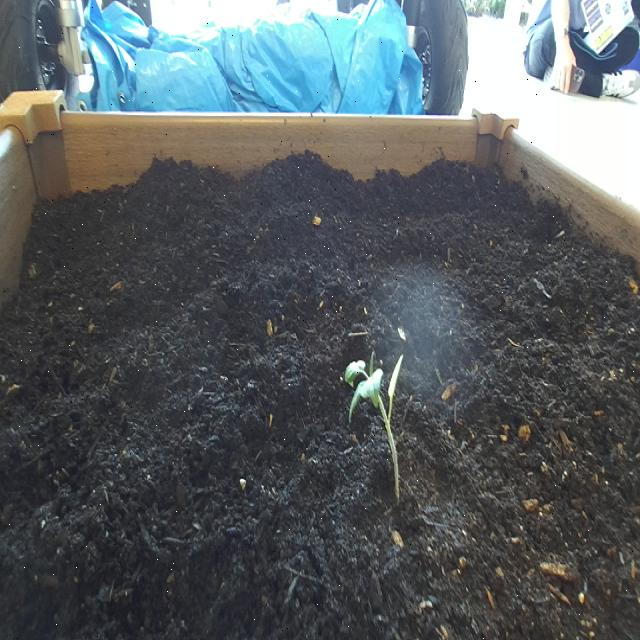Healthy: (334, 333, 430, 524)
